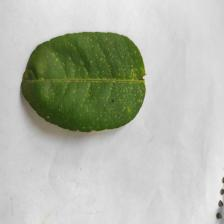greening: (68, 45, 148, 118)
